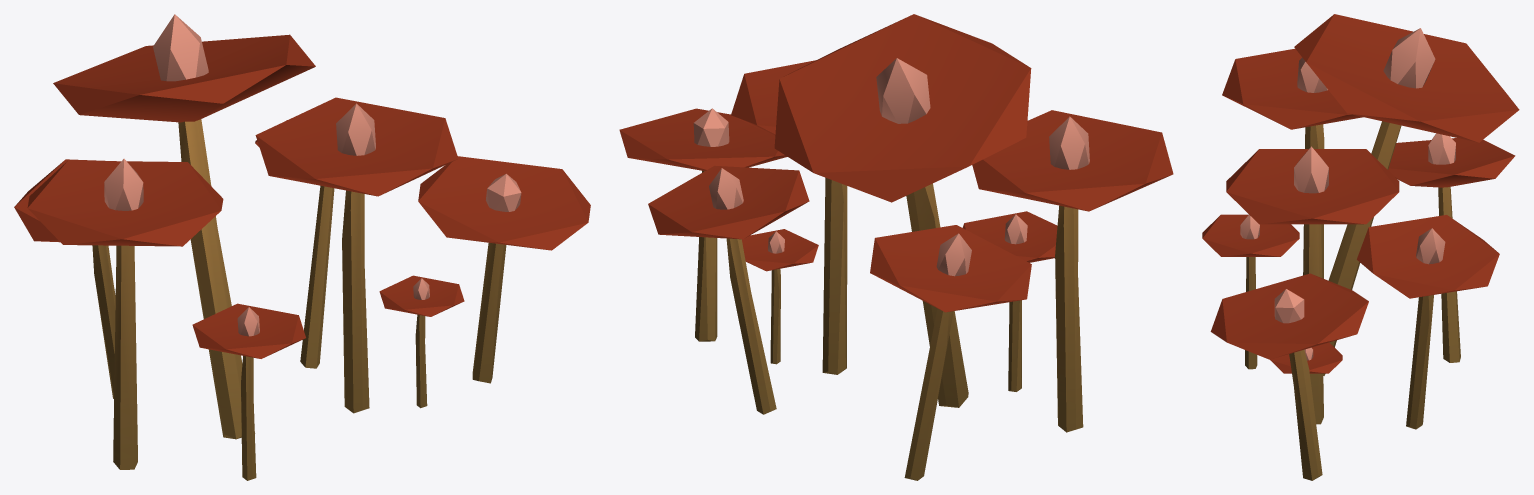
The model's file is Autumn_Flower_09.glb.
3 views of the same model, side by side, from view 1: azimuth 30°, elevation 25°; view 2: azimuth 150°, elevation 25°; view 3: azimuth 270°, elevation 25° (orthographic). The views are drawn at different scales.
Parts seen in each view (by area): view 1: Autumn_Flower_09_LOD0; view 2: Autumn_Flower_09_LOD0; view 3: Autumn_Flower_09_LOD0.
Part boxes in pixels (box(x1,y1,x2,y2)): Autumn_Flower_09_LOD0: box(14, 14, 590, 480); Autumn_Flower_09_LOD0: box(619, 14, 1173, 480); Autumn_Flower_09_LOD0: box(1202, 14, 1519, 480).
Size of what is drawn, in the model's own units: 0.3854 by 0.2729 by 0.225.
1 material, 1 textured.
